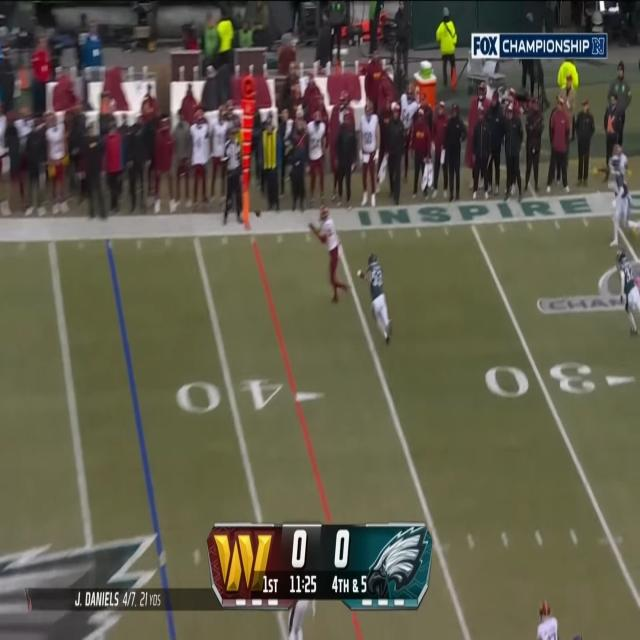Ball: (254, 207, 263, 219)
